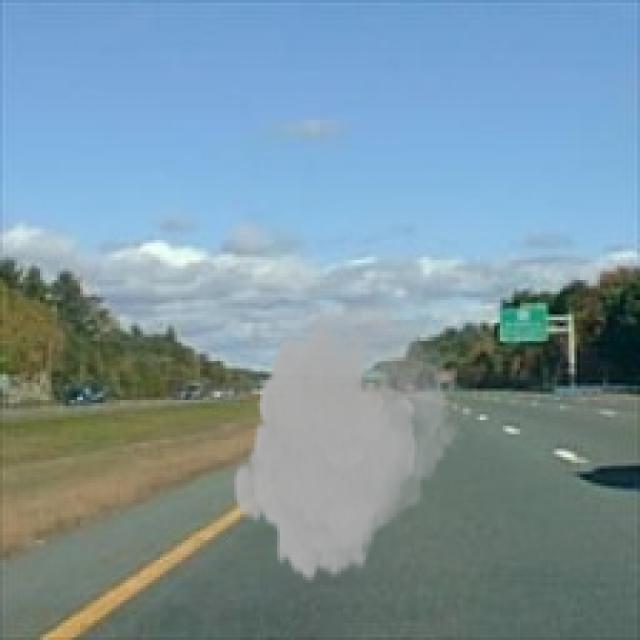Smoke: (231, 303, 466, 586)
